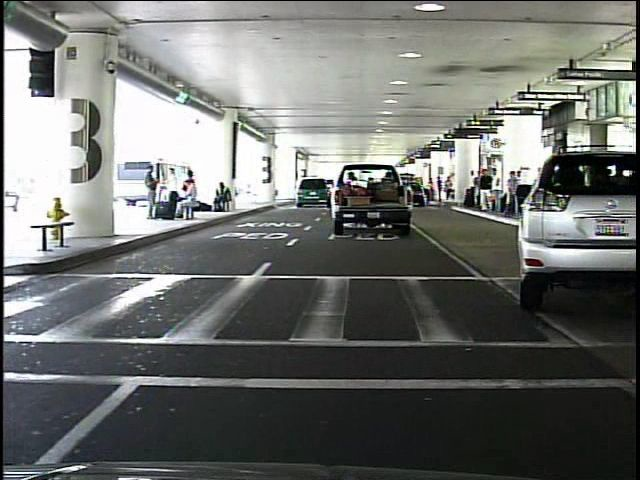person: (141, 163, 163, 223), (478, 168, 495, 215), (490, 166, 503, 216), (434, 173, 445, 205)
